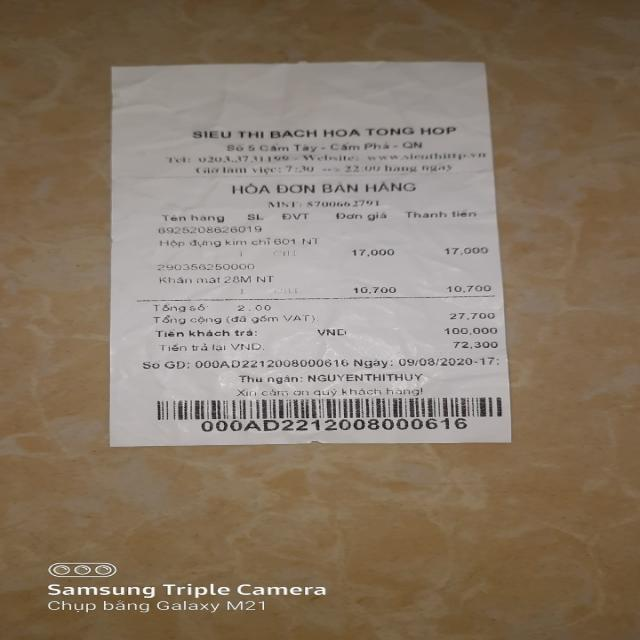Date: (399, 356, 476, 369)
Store_Name: (190, 124, 461, 140)
amount_number: (448, 311, 498, 320)
label_total: (152, 314, 226, 324)
